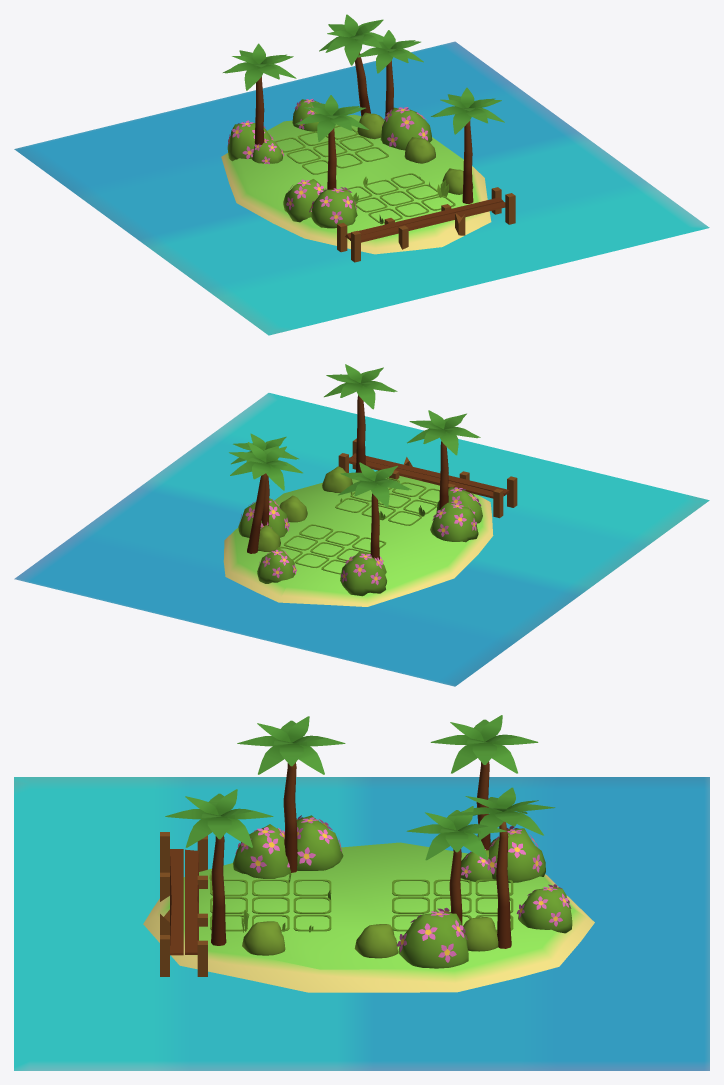
Rendered from Beach.glb.
3 renders of one model, top to bottom at view 1: azimuth 30°, elevation 25°; view 2: azimuth 150°, elevation 25°; view 3: azimuth 270°, elevation 25°, orthographic. The views are drawn at different scales.
Parts seen in each view (by area): view 1: Plane.009, Plane, Plane.001, PalmenMerge.004, PalmenMerge.001, PalmenMerge, PalmenMerge.002, BushMerge.004, BushMerge.008, PalmenMerge.003, BushMerge, Cube.001 (+6 smaller); view 2: Plane.009, Plane, PalmenMerge.001, Plane.001, PalmenMerge.004, PalmenMerge.002, PalmenMerge, BushMerge.001, BushMerge, BushMerge.003, BushMerge.004, Cube (+5 smaller); view 3: Plane.009, Plane, PalmenMerge.004, PalmenMerge.002, PalmenMerge.001, Plane.001, BushMerge.004, PalmenMerge, PalmenMerge.003, BushMerge.008, BushMerge, BushMerge.001 (+7 smaller).
Boxes of the visible parts, x1,y1,x2,y2 form: Plane.009: [14, 41, 709, 335]; Plane: [221, 114, 491, 254]; Plane.001: [274, 125, 455, 223]; PalmenMerge.004: [431, 87, 504, 203]; PalmenMerge.001: [319, 14, 383, 116]; PalmenMerge: [223, 43, 296, 144]; PalmenMerge.002: [295, 95, 368, 189]; BushMerge.004: [380, 107, 432, 150]; BushMerge.008: [309, 187, 357, 228]; PalmenMerge.003: [357, 30, 423, 116]; BushMerge: [283, 179, 326, 222]; Cube.001: [350, 201, 505, 242]; Plane.009: [14, 393, 709, 686]; Plane: [223, 471, 493, 606]; PalmenMerge.001: [229, 442, 302, 553]; Plane.001: [278, 477, 439, 574]; PalmenMerge.004: [324, 364, 397, 472]; PalmenMerge.002: [407, 410, 480, 509]; PalmenMerge: [338, 462, 411, 559]; BushMerge.001: [340, 551, 386, 596]; BushMerge: [430, 502, 478, 542]; BushMerge.003: [257, 548, 296, 583]; BushMerge.004: [238, 498, 289, 537]; Cube: [349, 457, 503, 498]; Plane.009: [14, 777, 709, 1070]; Plane: [143, 842, 594, 992]; PalmenMerge.004: [165, 789, 273, 945]; PalmenMerge.002: [237, 716, 345, 872]; PalmenMerge.001: [450, 787, 555, 948]; Plane.001: [210, 879, 513, 931]; BushMerge.004: [396, 907, 468, 968]; PalmenMerge: [430, 715, 538, 850]; PalmenMerge.003: [406, 806, 506, 925]; BushMerge.008: [233, 824, 290, 878]; BushMerge: [296, 815, 343, 870]; BushMerge.001: [486, 826, 545, 882].
Bounding box in the file's own units: 18.36 × 5.15 × 18.36.
1 material, 1 textured.
